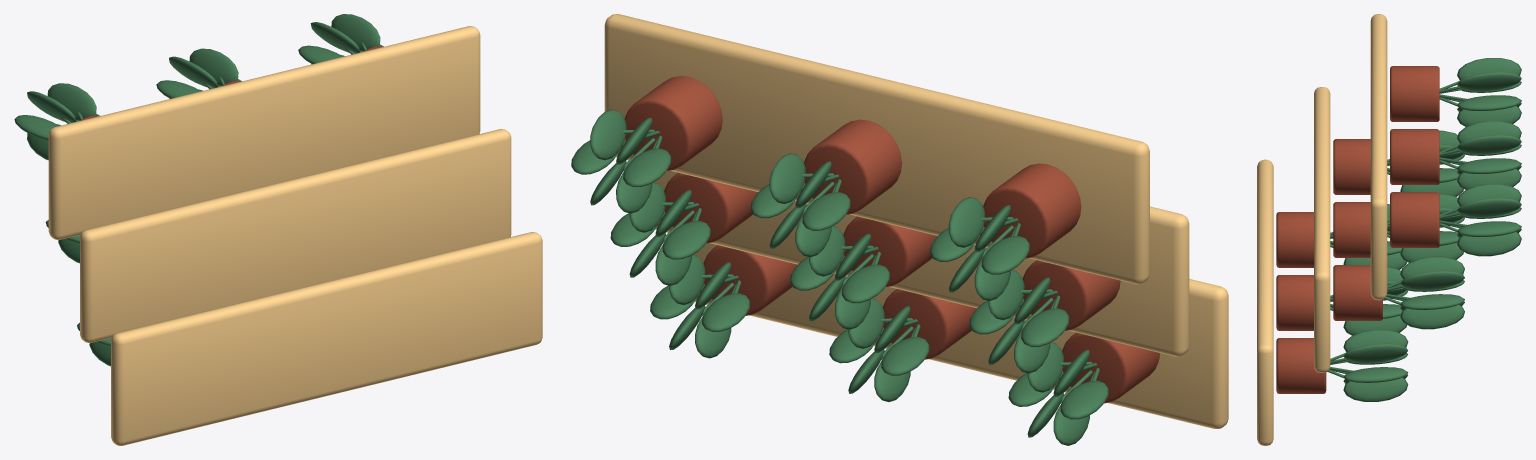
File: BoulevardLandmark4.fbx
The picture shows the model from 3 angles, left to right: view 1: azimuth 30°, elevation 25°; view 2: azimuth 150°, elevation 25°; view 3: azimuth 270°, elevation 25°; orthographic projection. The views are drawn at different scales.
Parts seen in each view (by area): view 1: BoulevardLandmark4; view 2: BoulevardLandmark4; view 3: BoulevardLandmark4.
Boxes of the visible parts, bbox=[...] form: BoulevardLandmark4: bbox=[14, 14, 542, 445]; BoulevardLandmark4: bbox=[571, 14, 1228, 445]; BoulevardLandmark4: bbox=[1257, 14, 1521, 445].
Size of the model in its own units: 1.9 by 1.15 by 1.12.
